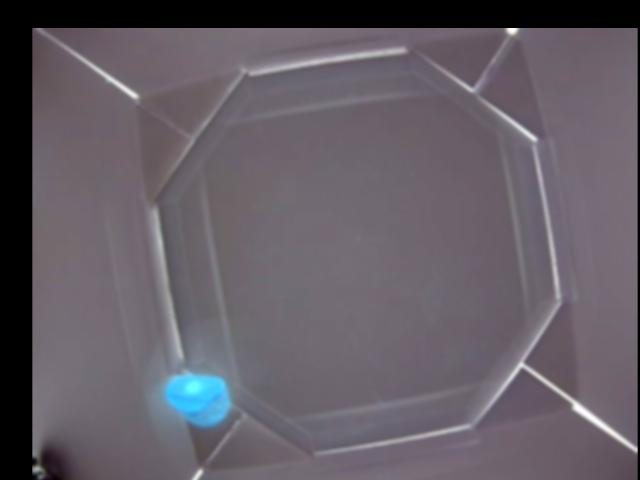Carrot: (167, 373, 230, 425)
